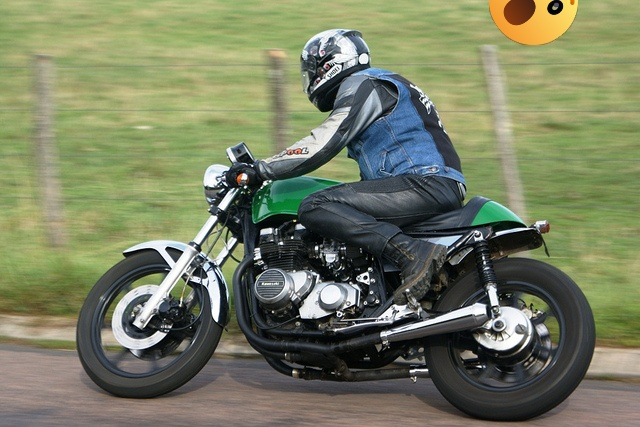wow: (489, 0, 578, 45)
